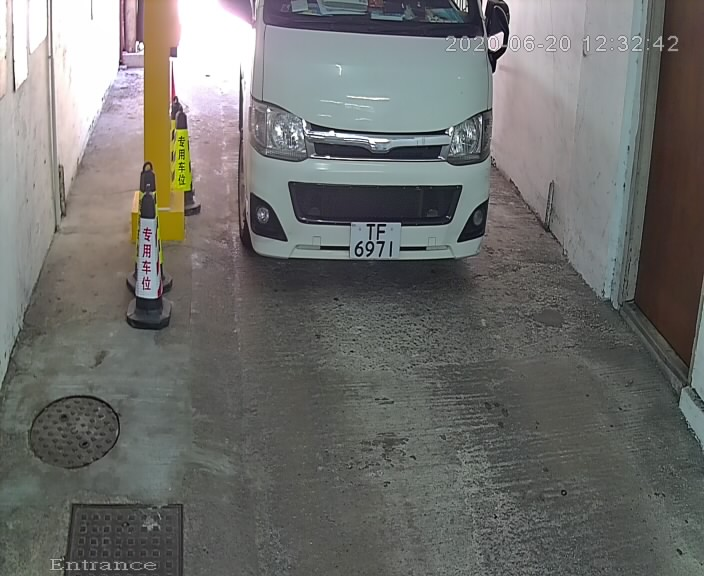privatecar: (214, 3, 516, 299)
